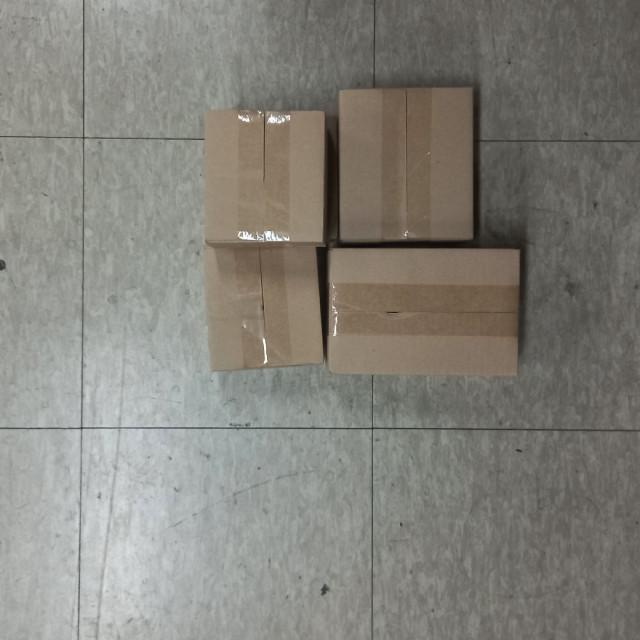box: (322, 240, 526, 384), (332, 79, 482, 246), (196, 104, 335, 248), (200, 242, 328, 377)
